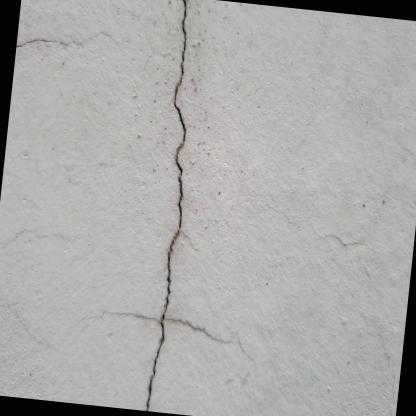crack: (143, 0, 189, 411)
